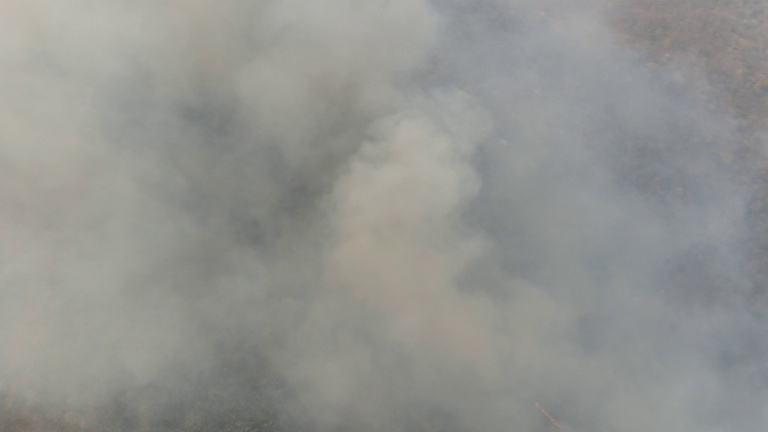fire: (520, 394, 578, 432)
smoke: (6, 3, 712, 432)
